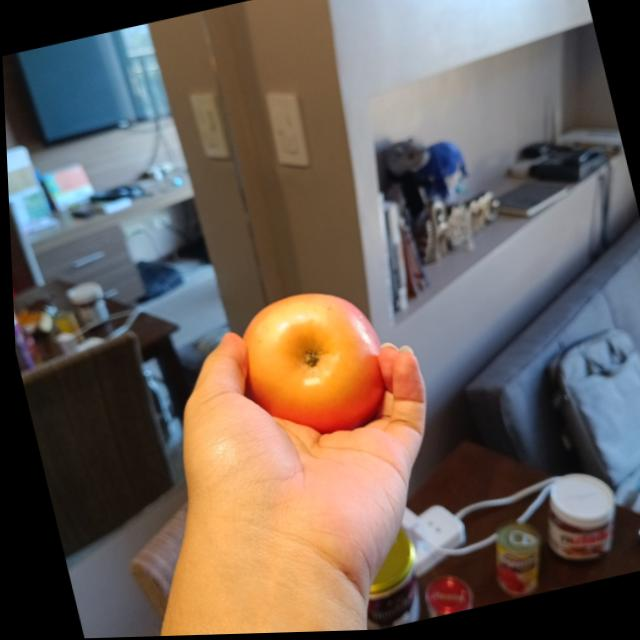apple: (227, 282, 392, 448)
